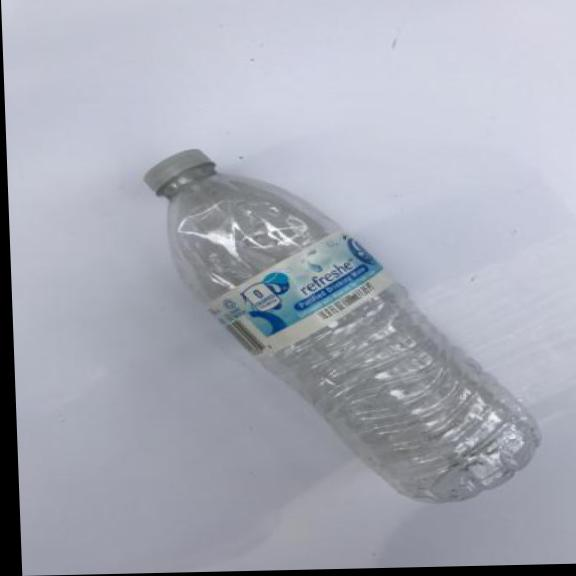Plastik: (132, 135, 548, 514)
